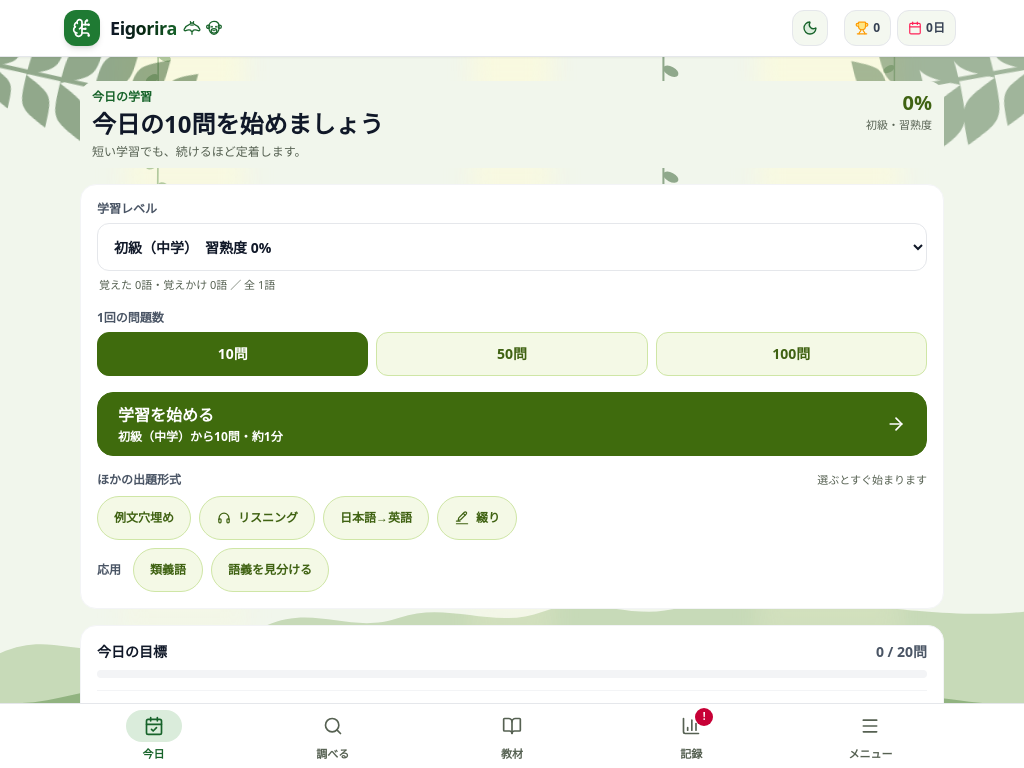
Test case: 単語帳に無い語の ID が苦手な単語に残っているとき › 「今日」「教材」「一覧」が同じ語数を出す
Click the button with id "tab_learn" at (512, 736), box [422, 704, 602, 767]
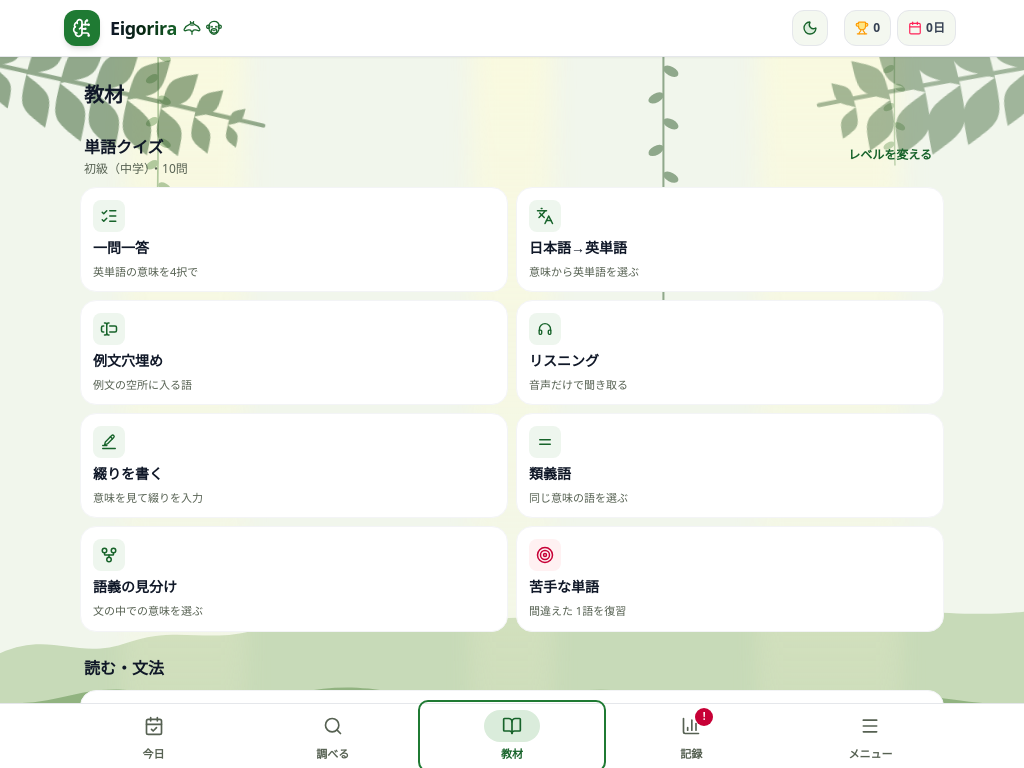
Expected: the button with id "btn_learn_wrong_words" is shown
Expected: the button with id "btn_learn_wrong_words" shows "間違えた 1語を復習"
Click the button with id "btn_learn_wrong_words" at (545, 555), box [516, 526, 944, 632]
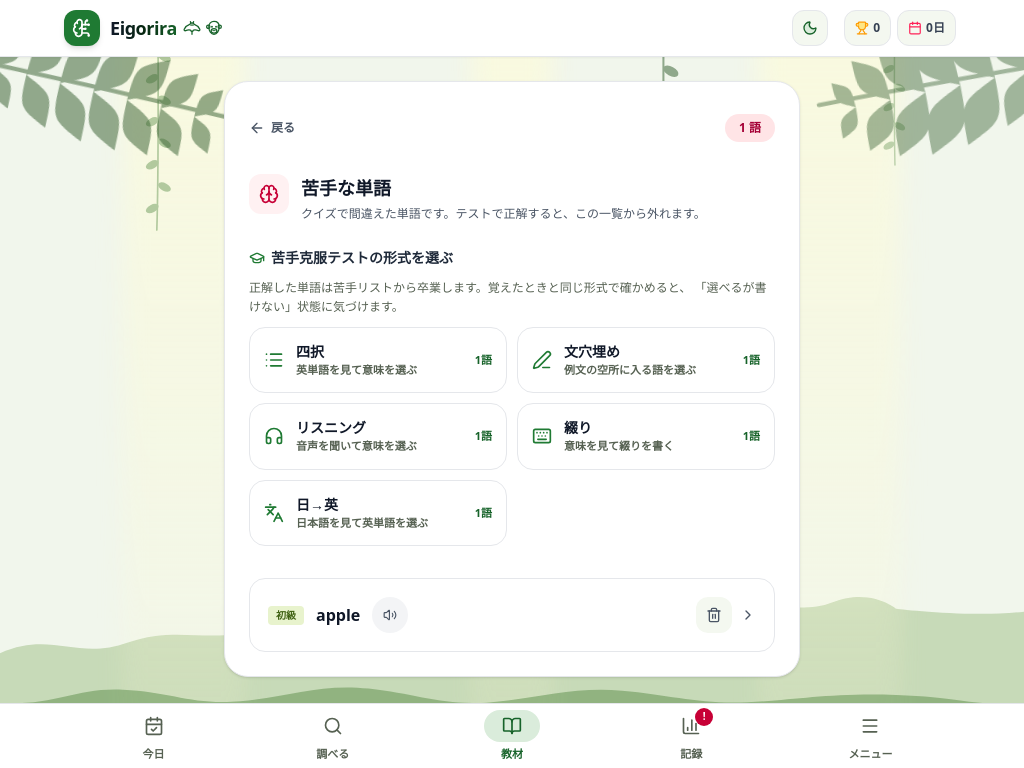
Expected: the text "1 語" is shown, [725, 114, 775, 142]
